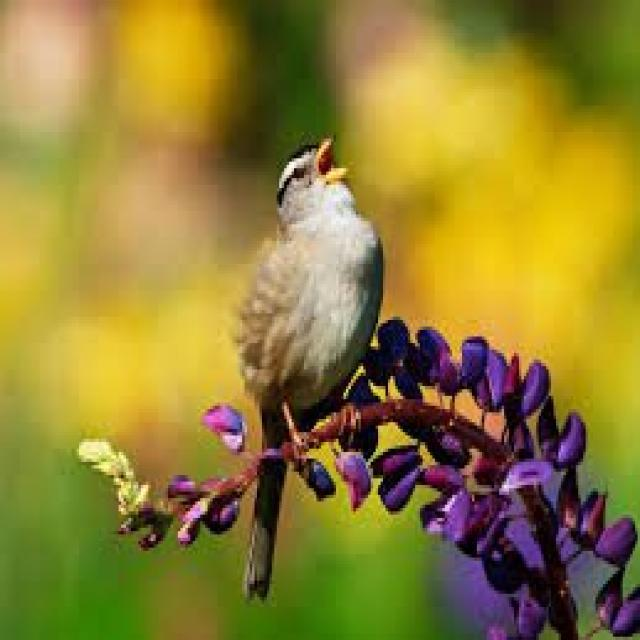Sparrow: (226, 128, 390, 601)
